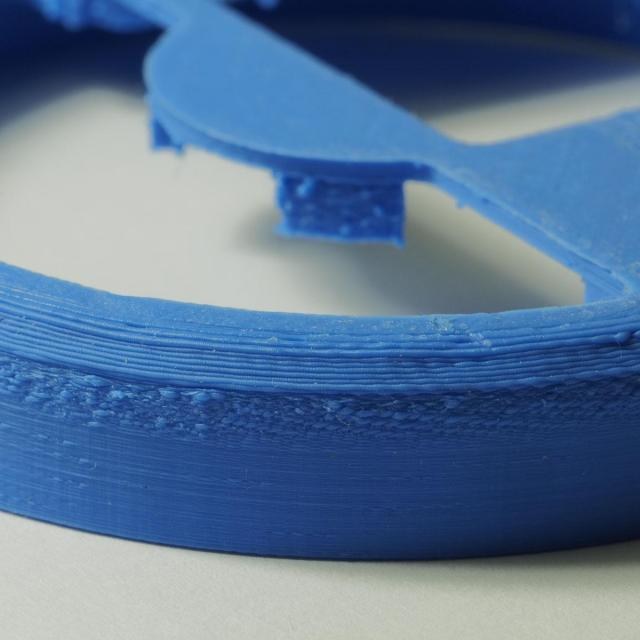spaghetti: (0, 342, 640, 462)
